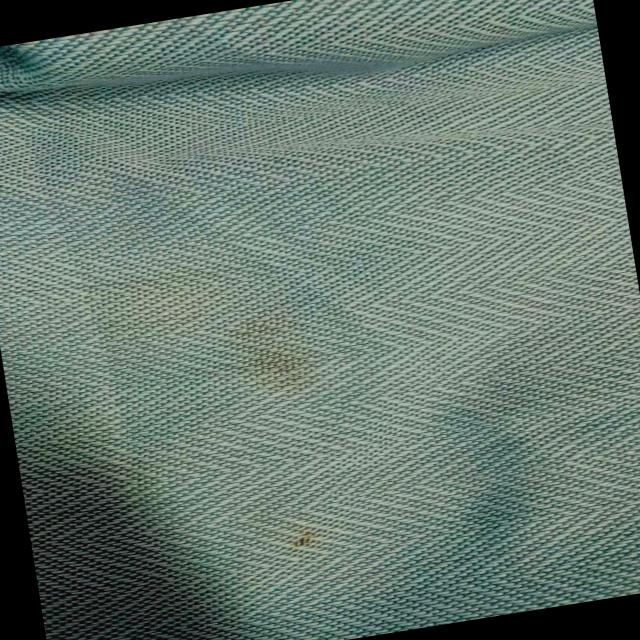stain: (84, 249, 344, 424), (264, 510, 346, 562)
